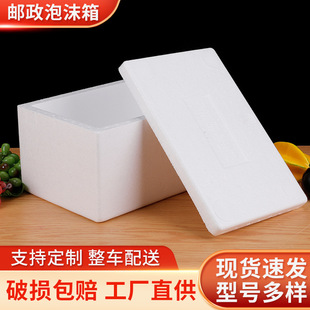Boxes: (18, 49, 305, 234)
